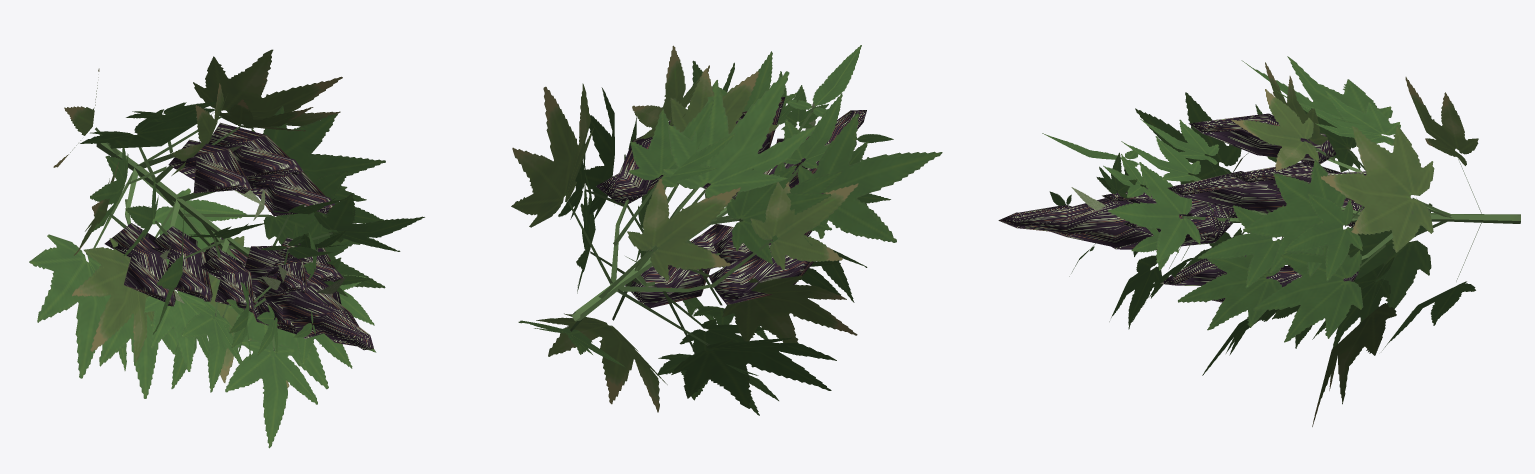
File: p_dark_tree_ripe_c0_cards.obj
The picture shows the model from 3 angles, left to right: view 1: azimuth 30°, elevation 25°; view 2: azimuth 150°, elevation 25°; view 3: azimuth 270°, elevation 25°; orthographic projection. The views are drawn at different scales.
Size of the model in its own units: 1.4 by 1.41 by 1.76.
1 material, 1 textured.
